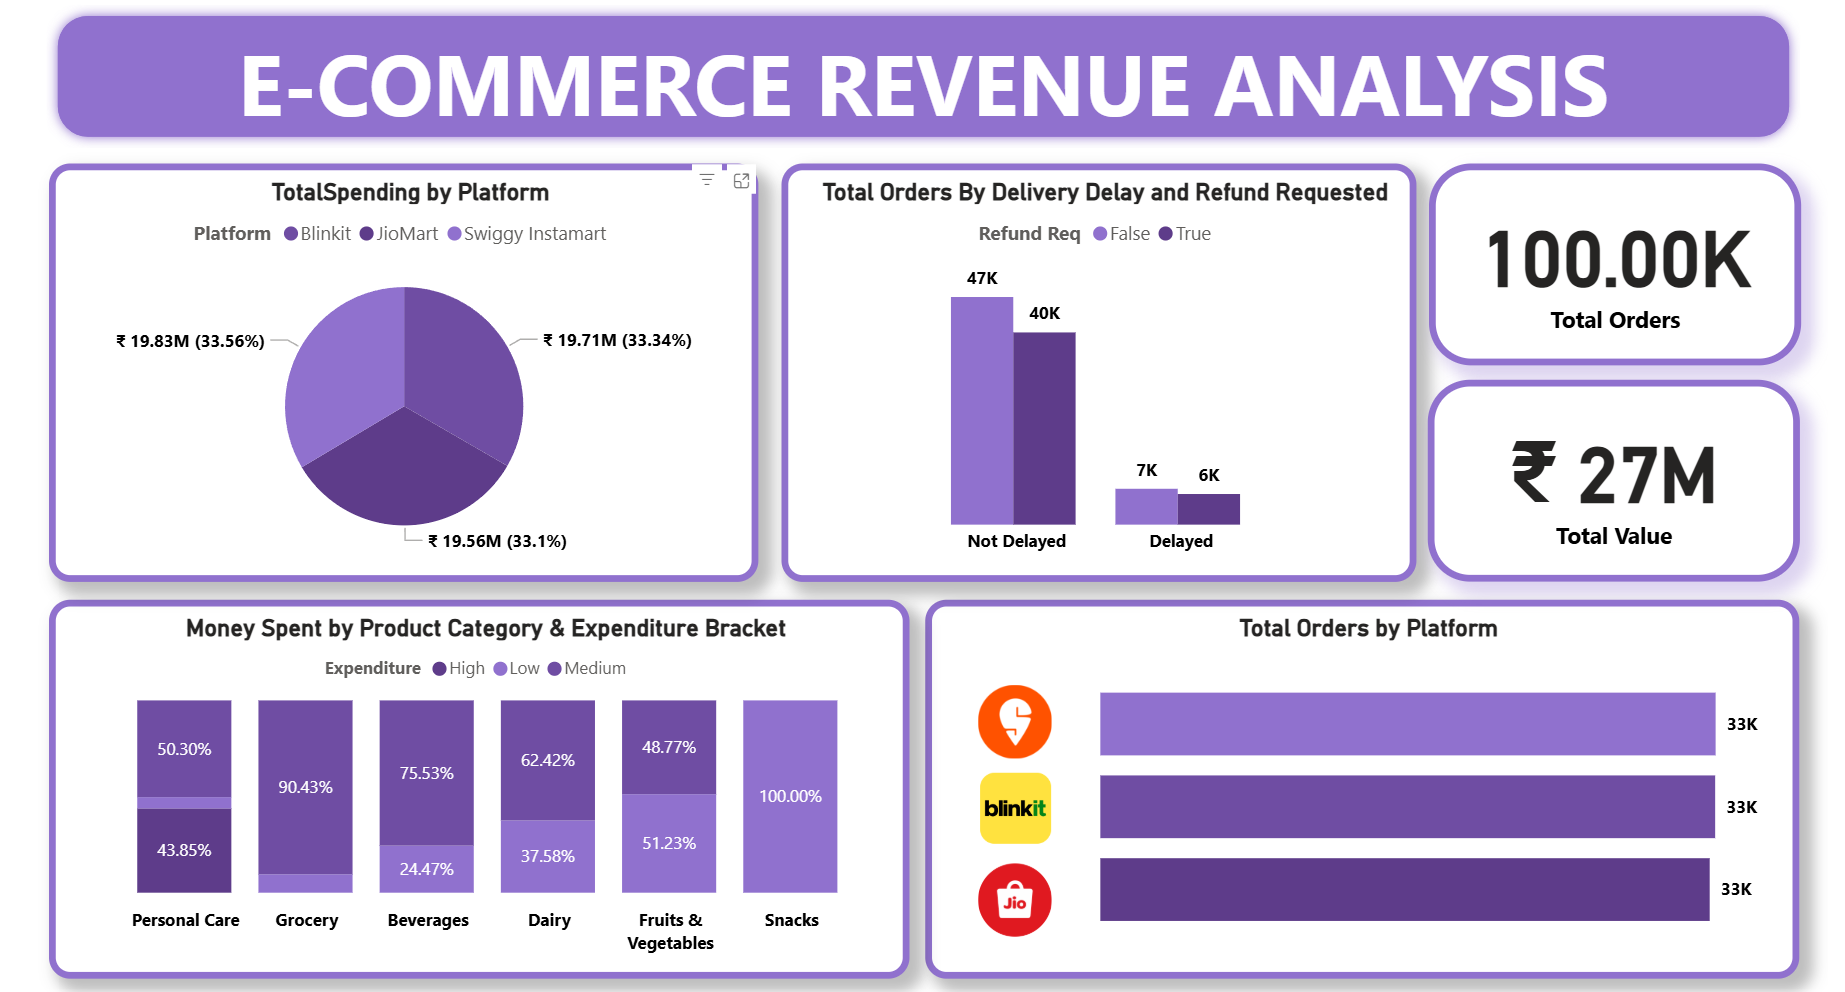

This screenshot's page, from the dashboard's own definition file:
{"tool":"powerbi","page":{"name":"Revenue Aanalysis","canvas":[1280,720],"ordinal":0},"visuals":[{"type":"clusteredBarChart","title":"Total Orders by Platform","fields":{"Category":["Ecommerce_Delivery_Analytics_New.Platform"],"Y":["CountNonNull(Ecommerce_Delivery_Analytics_New.Customer_ID)"]},"box":[639.5,431.4,619.8,268.6],"z":0},{"type":"gauge","fields":{"Y":["CountNonNull(Ecommerce_Delivery_Analytics_New.Customer_ID)"]},"box":[96.5,451.2,346.5,181.4],"z":1000},{"type":"clusteredColumnChart","title":"Total Orders By Delivery Delay and Refund Requested","fields":{"Category":["Ecommerce_Delivery_Analytics_New.Delivery_Delay"],"Y":["CountNonNull(Ecommerce_Delivery_Analytics_New.Customer_ID)"],"Series":["Ecommerce_Delivery_Analytics_New.Refund_Requested"]},"box":[537.2,122.1,450,296.5],"z":2000},{"type":"hundredPercentStackedColumnChart","title":"Money Spent by Product Category & Expenditure Bracket","fields":{"Y":["Sum(Ecommerce_Delivery_Analytics_New.Order_Value_INR)"],"Category":["Ecommerce_Delivery_Analytics_New.Product_Category"],"Series":["Ecommerce_Delivery_Analytics_New.Expenditure"]},"box":[17.4,431.4,610.5,268.6],"z":3000},{"type":"image","box":[652.3,550,101.2,60.5],"z":4000},{"type":"image","box":[672.1,610.5,61.6,69.8],"z":5000},{"type":"pieChart","fields":{"Y":["Ecommerce_Delivery_Analytics_New.TotalSpending"],"Series":["Ecommerce_Delivery_Analytics_New.Platform"]},"box":[17.4,122.1,503.5,296.5],"z":6000},{"type":"card","title":"Total Orders","fields":{"Values":["CountNonNull(Ecommerce_Delivery_Analytics_New.Order_ID)"]},"box":[996.5,122.1,264,143],"z":7000},{"type":"card","title":"Total Orders","fields":{"Values":["Sum(Ecommerce_Delivery_Analytics_New.Order_Value_INR)"]},"box":[995.4,275.6,264,143],"z":8000},{"type":"shape","title":"E-COMMERCE REVENUE ANALYSIS","box":[15.9,10,1244.2,101.6],"z":9000},{"type":"image","box":[672.4,487.1,61.8,62.8],"z":10000}]}

Visuals, with their boxes in screenshot pixels (x1, y1, x2, y2):
"Total Orders by Platform" clusteredBarChart: bbox(923, 597, 1794, 974)
gauge - CountNonNull(Ecommerce_Delivery_Analytics_New.Customer_ID): bbox(160, 625, 647, 880)
"Total Orders By Delivery Delay and Refund Requested" clusteredColumnChart: bbox(779, 162, 1412, 579)
"Money Spent by Product Category & Expenditure Bracket" hundredPercentStackedColumnChart: bbox(48, 597, 907, 974)
image: bbox(941, 763, 1083, 848)
image: bbox(969, 848, 1055, 947)
pieChart - Ecommerce_Delivery_Analytics_New.TotalSpending x Ecommerce_Delivery_Analytics_New.Platform: bbox(48, 162, 756, 579)
"Total Orders" card: bbox(1425, 162, 1796, 363)
"Total Orders" card: bbox(1423, 378, 1794, 579)
"E-COMMERCE REVENUE ANALYSIS" shape: bbox(46, 4, 1795, 147)
image: bbox(969, 675, 1056, 763)
